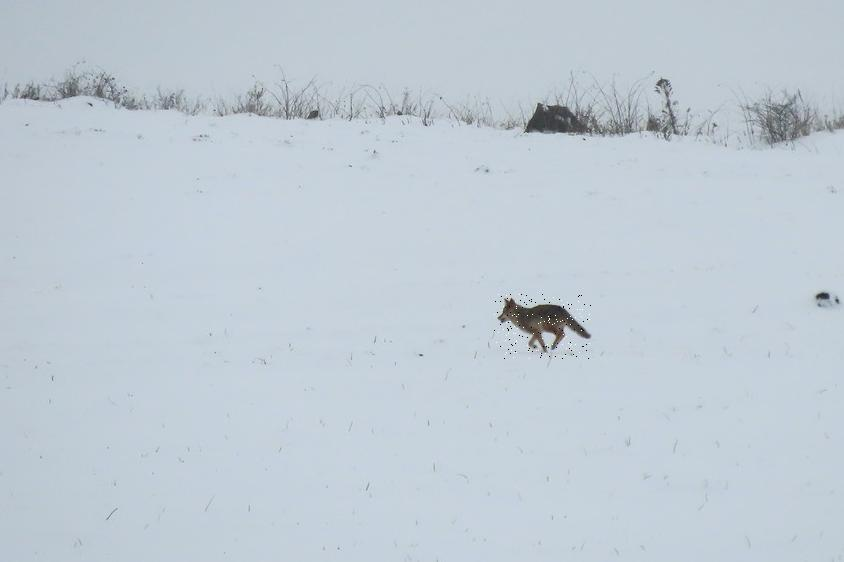Coyote: (494, 294, 591, 359)
